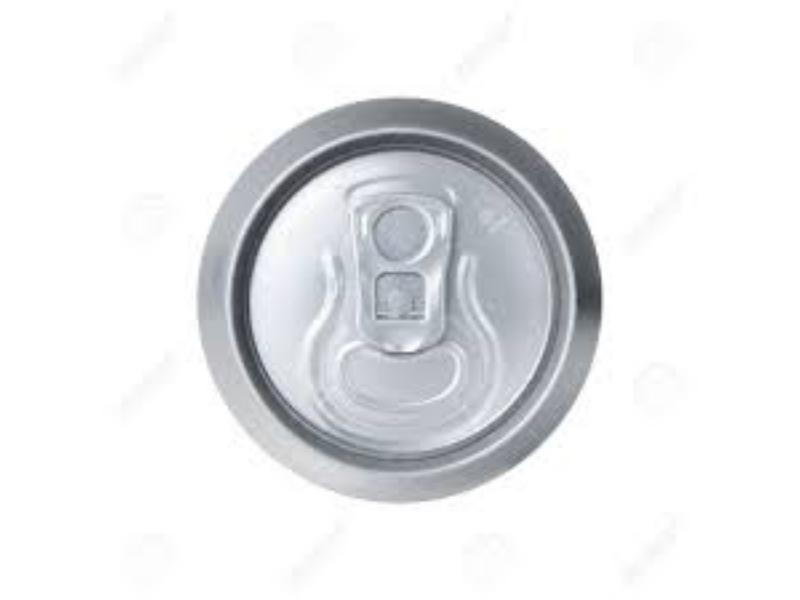can: (195, 90, 616, 505)
